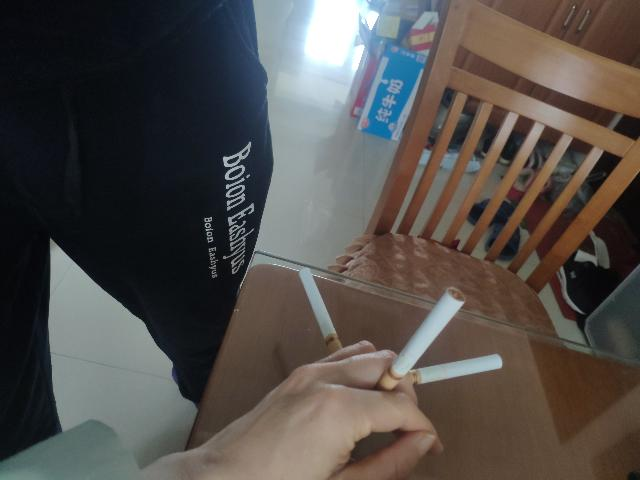Cigarette: (368, 286, 468, 400), (298, 266, 350, 370), (386, 353, 504, 391)
